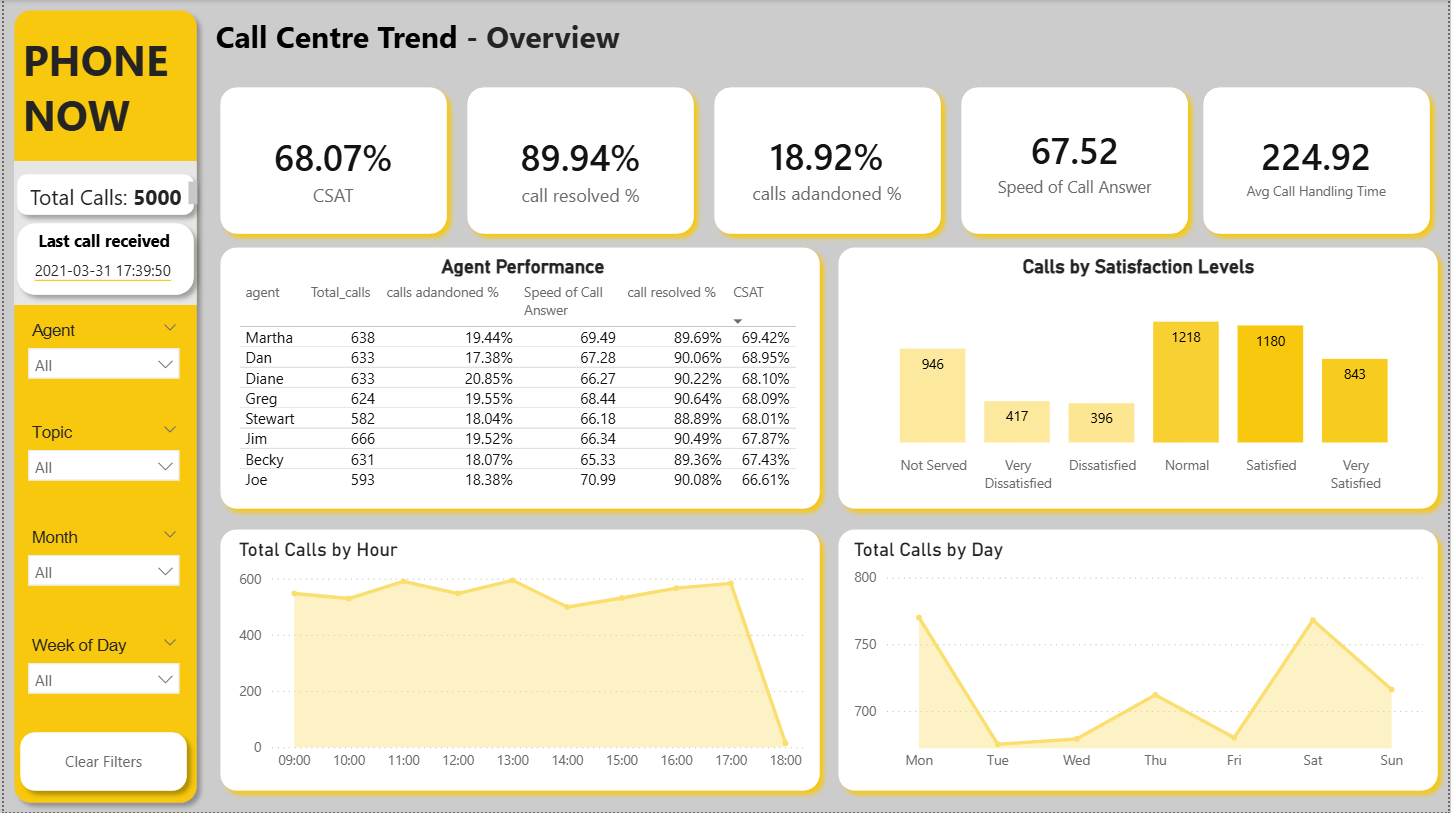

Layout of this report page (visuals, bound fields, positions):
{"tool":"powerbi","page":{"name":"Overview","canvas":[1280,720],"ordinal":0},"visuals":[{"type":"shape","box":[0,0,180,720.9],"z":0},{"type":"textbox","box":[182.5,9,438.7,49.4],"z":1000},{"type":"shape","box":[182.7,68.3,219,148.1],"z":2000},{"type":"shape","box":[401.7,68.3,219,148.1],"z":3000},{"type":"shape","box":[620.7,68.3,219,148.1],"z":4000},{"type":"shape","box":[839.7,68.3,219,148.1],"z":5000},{"type":"shape","box":[1054.3,68.3,219,148.1],"z":6000},{"type":"shape","box":[8.9,142.8,162.3,127.7],"z":7000},{"type":"shape","box":[182.7,210.1,549.8,250],"z":8000},{"type":"shape","box":[182.7,460.2,549.8,250],"z":9000},{"type":"shape","box":[2.7,188.9,174.7,81.6],"z":10000},{"type":"shape","box":[730.6,210.1,549.8,250],"z":11000},{"type":"shape","box":[2.7,145.4,174.7,54.1],"z":12000},{"type":"shape","box":[5.3,640.2,165.8,70],"z":13000},{"type":"shape","box":[730.6,460.2,549.8,250],"z":14000},{"type":"cardVisual","fields":{"Data":["Calls.calls adandoned %"]},"box":[632.2,97.5,196,102],"z":15000},{"type":"textbox","box":[11.5,197.7,154.3,31.9],"z":16000},{"type":"cardVisual","fields":{"Data":["Calls.call resolved %"]},"box":[424.7,102,173.8,95.8],"z":17000},{"type":"cardVisual","fields":{"Data":["Calls.AvgansweredTime"]},"box":[1068.5,94,190.6,105.5],"z":18000},{"type":"textbox","box":[11.5,156.1,164.9,32.8],"z":19000},{"type":"cardVisual","fields":{"Data":["Calls.AvgAnsweredTime"]},"box":[849.5,89.6,200.4,106.4],"z":20000},{"type":"cardVisual","fields":{"Data":["Calls.CSAT"]},"box":[203.1,102,178.2,95.8],"z":21000},{"type":"tableEx","title":"Agent Performance","fields":{"Values":["Calls.agent","Calls.Total_calls","Calls.calls adandoned %","Calls.AvgAnsweredTime","Calls.call resolved %","Calls.CSAT"]},"box":[203.1,226.1,514.3,217.2],"z":22000},{"type":"lineChart","title":"Total Calls by Hour","fields":{"Category":["Calls.hour"],"Y":["Calls.call id"]},"box":[203.1,477,514.3,215.5],"z":23000},{"type":"lineChart","title":"Total Calls by Day","fields":{"Y":["Calls.call id"],"Category":["Calls.day name"]},"box":[748.4,476.8,515.1,215.5],"z":24000},{"type":"clusteredColumnChart","title":"Calls by Satisfaction Levels","fields":{"Y":["Calls.call id"],"Category":["Calls.satisfaction level"]},"box":[748.4,226.1,515.2,217.2],"z":25000},{"type":"slicer","fields":{"Values":["Calls.agent"]},"box":[11.5,276.7,154.3,84.2],"z":26000},{"type":"slicer","fields":{"Values":["Calls.topic"]},"box":[11.5,367.1,154.3,84.2],"z":27000},{"type":"slicer","fields":{"Values":["Calls.month"]},"box":[11.5,460.2,154.3,84.2],"z":28000},{"type":"slicer","fields":{"Values":["Calls.day name"]},"box":[11.5,556,154.3,84.2],"z":29000},{"type":"textbox","box":[22.2,226.1,135.7,31.9],"z":30000},{"type":"textbox","box":[11.5,22.2,159.6,112.6],"z":31000},{"type":"actionButton","box":[20,648.3,135.8,52.5],"z":32000}]}

Visuals, with their boxes in screenshot pixels (x1, y1, x2, y2), scaled from the page's 1280x720 canvas onto the 1451x813 screenshot:
shape: pyautogui.locateOnScreen(0, 0, 204, 812)
textbox: pyautogui.locateOnScreen(207, 10, 704, 66)
shape: pyautogui.locateOnScreen(207, 77, 455, 244)
shape: pyautogui.locateOnScreen(455, 77, 704, 244)
shape: pyautogui.locateOnScreen(704, 77, 952, 244)
shape: pyautogui.locateOnScreen(952, 77, 1200, 244)
shape: pyautogui.locateOnScreen(1195, 77, 1443, 244)
shape: pyautogui.locateOnScreen(10, 161, 194, 305)
shape: pyautogui.locateOnScreen(207, 237, 830, 520)
shape: pyautogui.locateOnScreen(207, 520, 830, 802)
shape: pyautogui.locateOnScreen(3, 213, 201, 305)
shape: pyautogui.locateOnScreen(828, 237, 1450, 520)
shape: pyautogui.locateOnScreen(3, 164, 201, 225)
shape: pyautogui.locateOnScreen(6, 723, 194, 802)
shape: pyautogui.locateOnScreen(828, 520, 1450, 802)
cardVisual - Calls.calls adandoned %: pyautogui.locateOnScreen(717, 110, 939, 225)
textbox: pyautogui.locateOnScreen(13, 223, 188, 259)
cardVisual - Calls.call resolved %: pyautogui.locateOnScreen(481, 115, 678, 223)
cardVisual - Calls.AvgansweredTime: pyautogui.locateOnScreen(1211, 106, 1427, 225)
textbox: pyautogui.locateOnScreen(13, 176, 200, 213)
cardVisual - Calls.AvgAnsweredTime: pyautogui.locateOnScreen(963, 101, 1190, 221)
cardVisual - Calls.CSAT: pyautogui.locateOnScreen(230, 115, 432, 223)
"Agent Performance" tableEx: pyautogui.locateOnScreen(230, 255, 813, 501)
"Total Calls by Hour" lineChart: pyautogui.locateOnScreen(230, 539, 813, 782)
"Total Calls by Day" lineChart: pyautogui.locateOnScreen(848, 538, 1432, 782)
"Calls by Satisfaction Levels" clusteredColumnChart: pyautogui.locateOnScreen(848, 255, 1432, 501)
slicer - Calls.agent: pyautogui.locateOnScreen(13, 312, 188, 408)
slicer - Calls.topic: pyautogui.locateOnScreen(13, 415, 188, 510)
slicer - Calls.month: pyautogui.locateOnScreen(13, 520, 188, 615)
slicer - Calls.day name: pyautogui.locateOnScreen(13, 628, 188, 723)
textbox: pyautogui.locateOnScreen(25, 255, 179, 291)
textbox: pyautogui.locateOnScreen(13, 25, 194, 152)
actionButton: pyautogui.locateOnScreen(23, 732, 177, 791)
